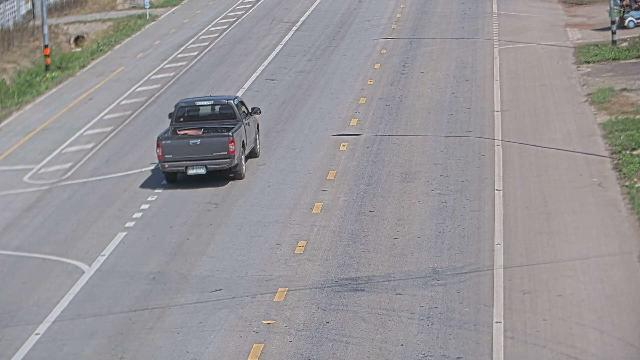pickup-truck: (155, 94, 261, 183)
